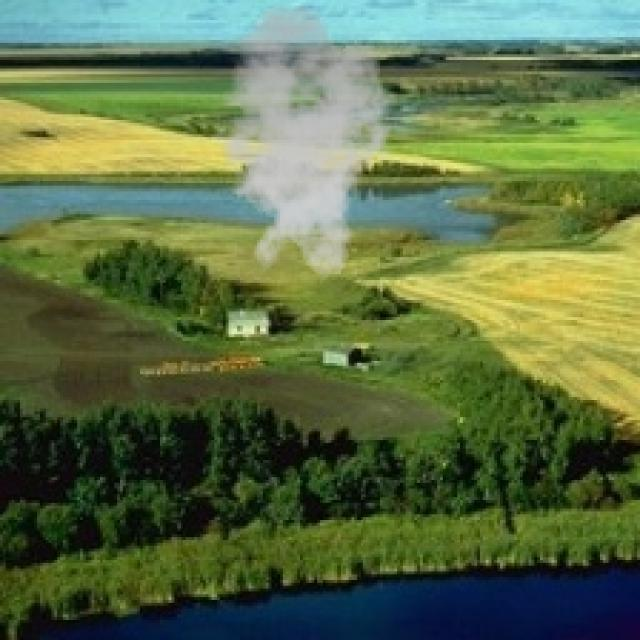smoke: (200, 3, 403, 280)
